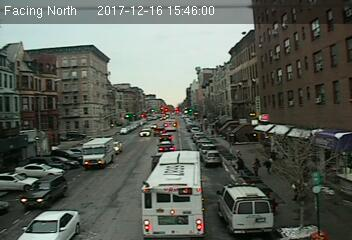bus: (138, 149, 208, 237)
car: (16, 173, 67, 206), (204, 150, 221, 164), (157, 141, 174, 151)
police: (217, 182, 274, 234)
truck: (82, 137, 115, 167)
